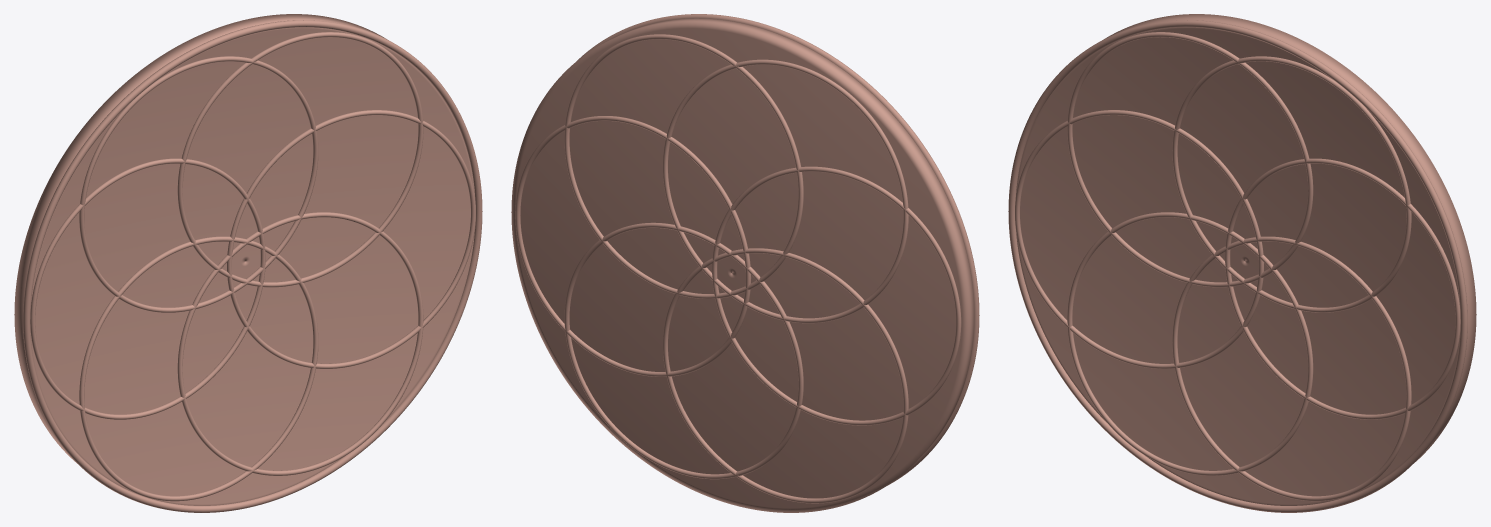
The model's file is flower-copper.glb.
3 views of the same model, side by side, from view 1: azimuth 30°, elevation 25°; view 2: azimuth 150°, elevation 25°; view 3: azimuth 330°, elevation 25° (orthographic).
Parts seen in each view (by area): view 1: Shallow cast plate, Fine rolled lip, Interlaced circular engraving 05, Interlaced circular engraving 04, Interlaced circular engraving 00, Interlaced circular engraving 01, Interlaced circular engraving 03, Interlaced circular engraving 02; view 2: Shallow cast plate, Reverse interlaced engraving 02, Reverse interlaced engraving 03, Reverse interlaced engraving 01, Reverse interlaced engraving 04, Reverse interlaced engraving 00, Reverse interlaced engraving 05, Fine rolled lip; view 3: Shallow cast plate, Fine rolled lip, Interlaced circular engraving 04, Interlaced circular engraving 05, Interlaced circular engraving 03, Interlaced circular engraving 02, Interlaced circular engraving 00, Interlaced circular engraving 01.
Part boxes in pixels (<box>): Shallow cast plate: <box>14,14,475,505</box>; Fine rolled lip: <box>23,20,482,512</box>; Interlaced circular engraving 05: <box>177,212,423,475</box>; Interlaced circular engraving 04: <box>79,236,318,501</box>; Interlaced circular engraving 00: <box>227,110,475,368</box>; Interlaced circular engraving 01: <box>177,32,423,287</box>; Interlaced circular engraving 03: <box>30,158,265,419</box>; Interlaced circular engraving 02: <box>79,56,318,312</box>; Shallow cast plate: <box>511,18,974,512</box>; Reverse interlaced engraving 02: <box>663,59,908,323</box>; Reverse interlaced engraving 03: <box>712,166,961,425</box>; Reverse interlaced engraving 01: <box>564,34,803,298</box>; Reverse interlaced engraving 04: <box>663,248,908,503</box>; Reverse interlaced engraving 00: <box>515,116,751,376</box>; Reverse interlaced engraving 05: <box>564,222,803,479</box>; Fine rolled lip: <box>577,14,979,485</box>; Shallow cast plate: <box>1015,14,1476,505</box>; Fine rolled lip: <box>1008,20,1467,512</box>; Interlaced circular engraving 04: <box>1067,212,1313,475</box>; Interlaced circular engraving 05: <box>1172,236,1411,501</box>; Interlaced circular engraving 03: <box>1015,110,1263,368</box>; Interlaced circular engraving 02: <box>1067,32,1313,287</box>; Interlaced circular engraving 00: <box>1225,158,1460,419</box>; Interlaced circular engraving 01: <box>1172,56,1411,312</box>.
Size of the model in its own units: 2.03 by 2.03 by 0.1628.
